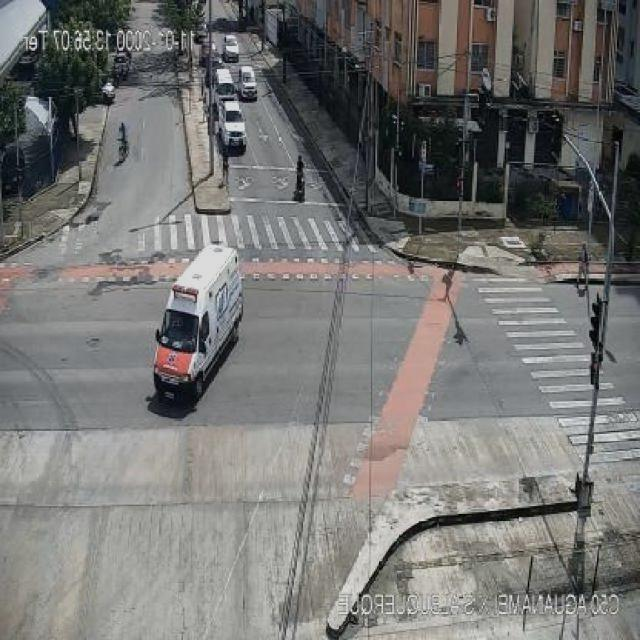Car: (217, 101, 247, 151), (237, 66, 257, 100), (113, 52, 131, 80), (222, 35, 240, 61), (200, 41, 218, 67), (196, 22, 208, 43)
Van: (148, 244, 248, 411)
